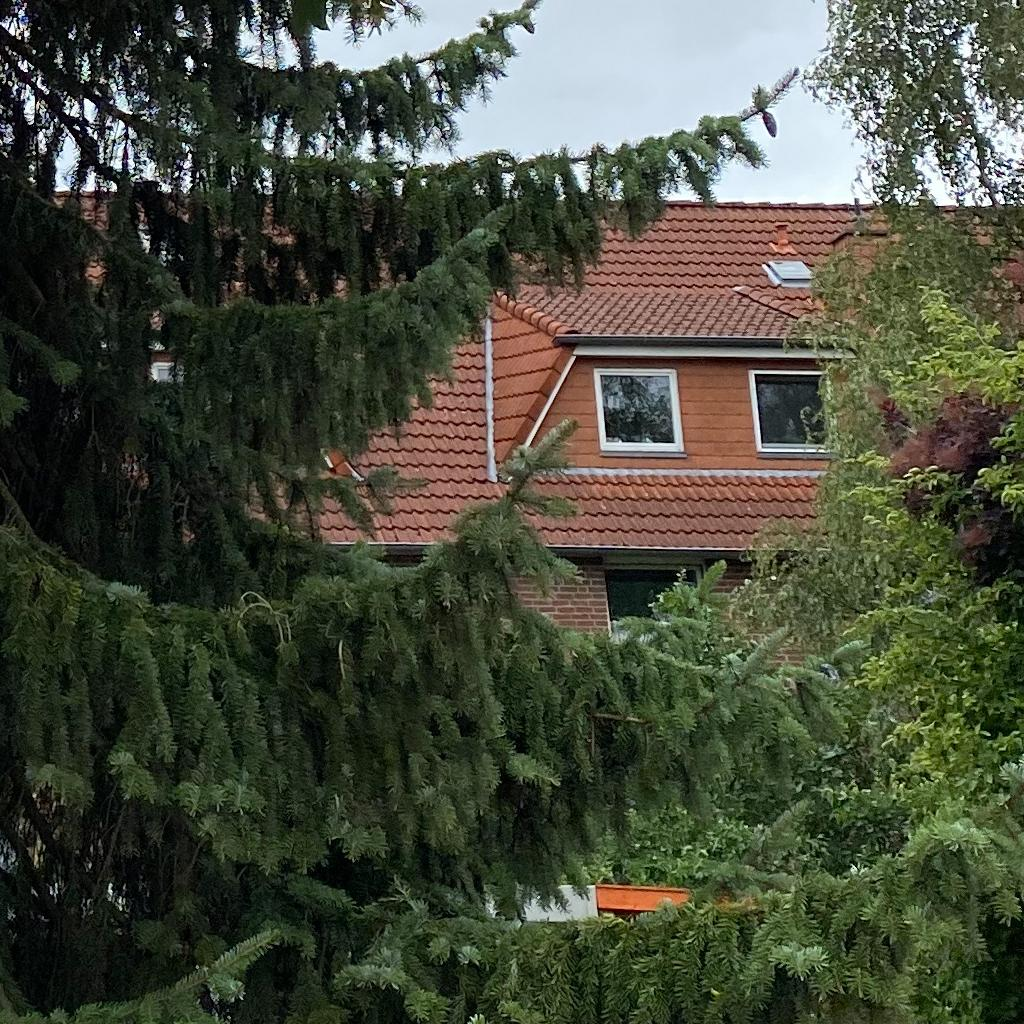tree: (1, 1, 1023, 1023), (729, 1, 1024, 786), (840, 282, 1024, 783)
